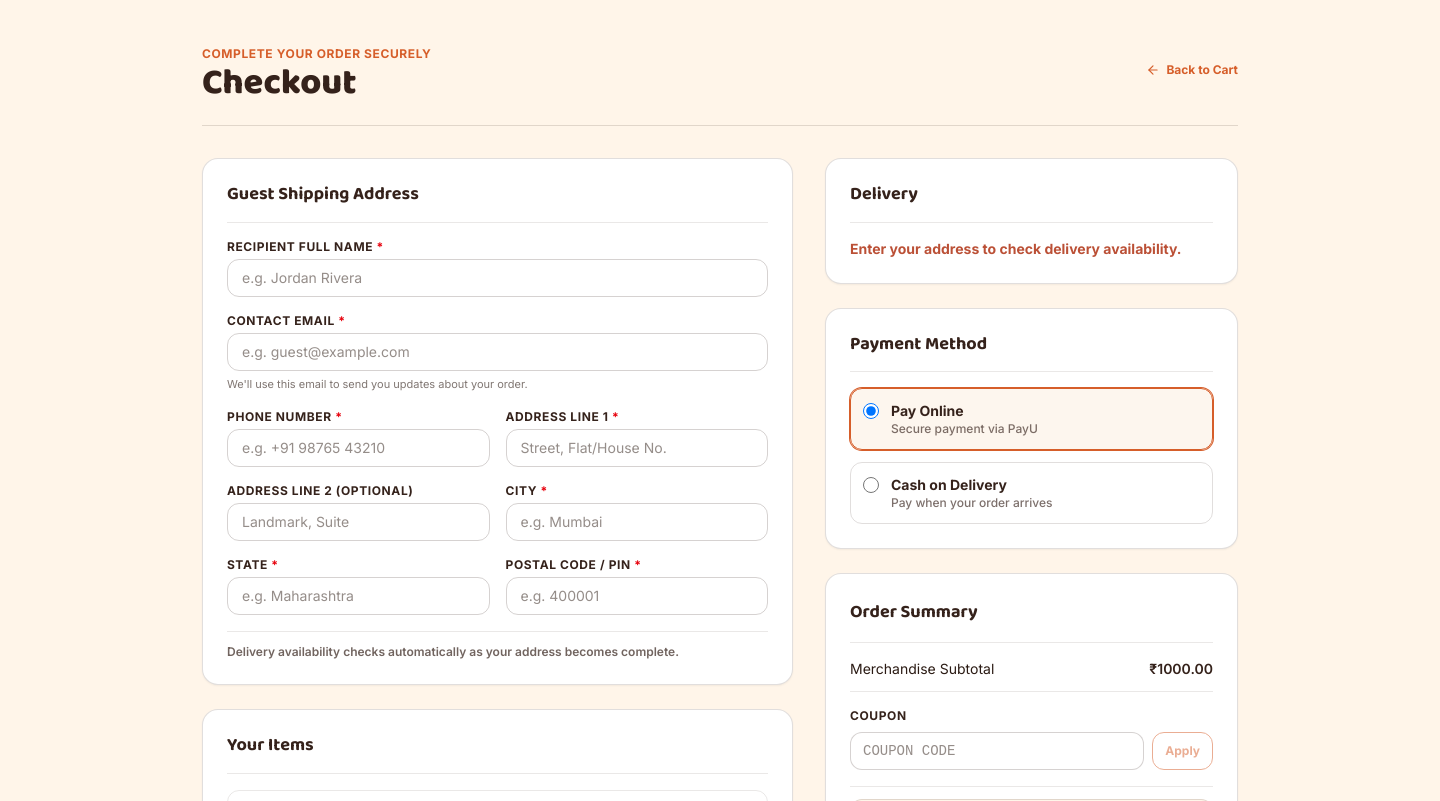
Test: Checkout product payment-method availability › COD-only cart: auto-switches from PayU to COD, re-previews once for COD, and never loops back
Expected: the heading "Guest Shipping Address" is shown, left=227, top=183, right=419, bottom=206
Step 1. Type "Guest User" into the field labelled "Recipient Full Name *" → (498, 278), box left=227, top=259, right=768, bottom=297
Step 2. Type "+91 98765 00000" into the field labelled "Phone Number *" → (358, 448), box left=227, top=429, right=490, bottom=467
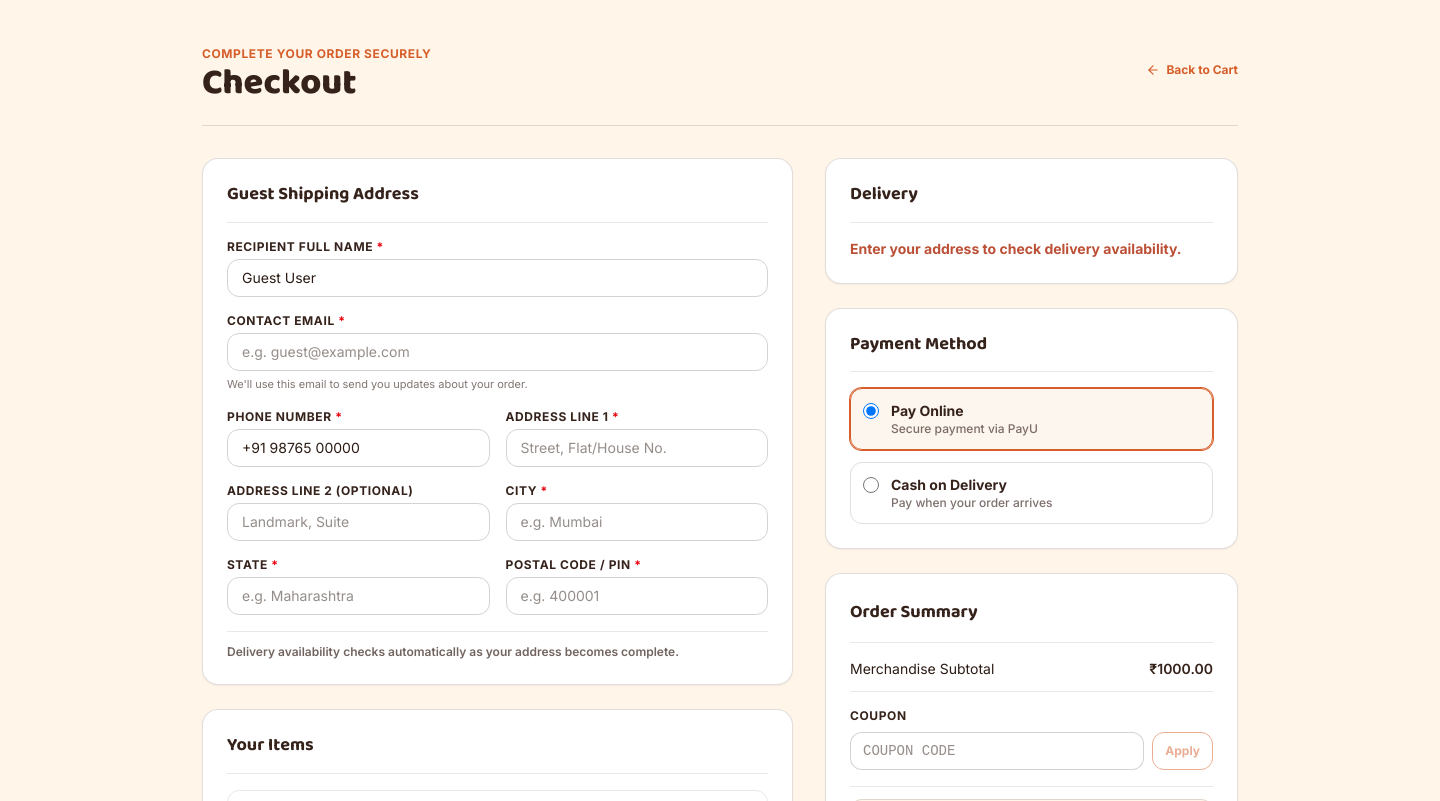
Step 3. Type "123 Street" into the field labelled "Address Line 1 *" → (637, 448), box left=506, top=429, right=768, bottom=467
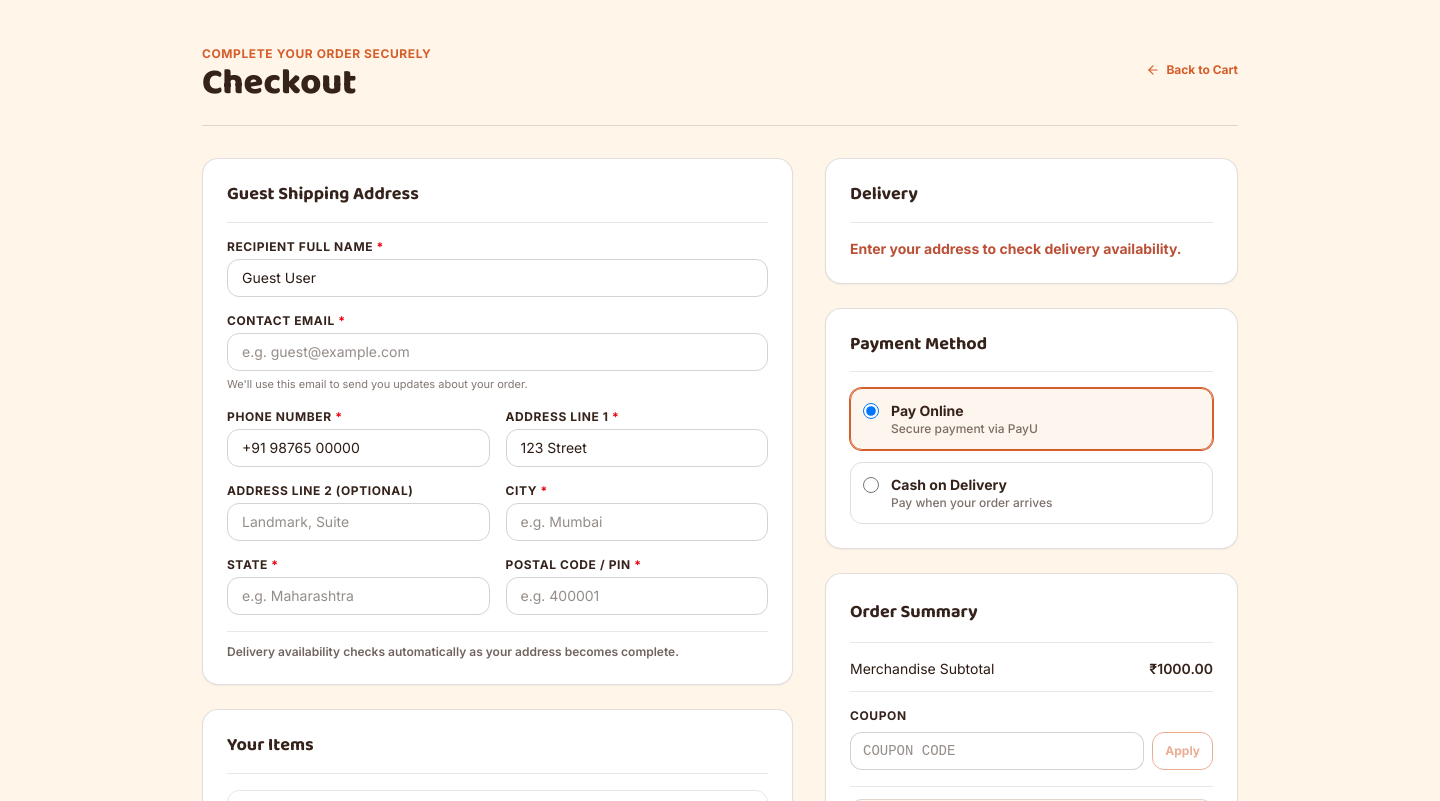
Step 4. Type "Mumbai" into the field labelled "City *" → (637, 522), box left=506, top=503, right=768, bottom=541
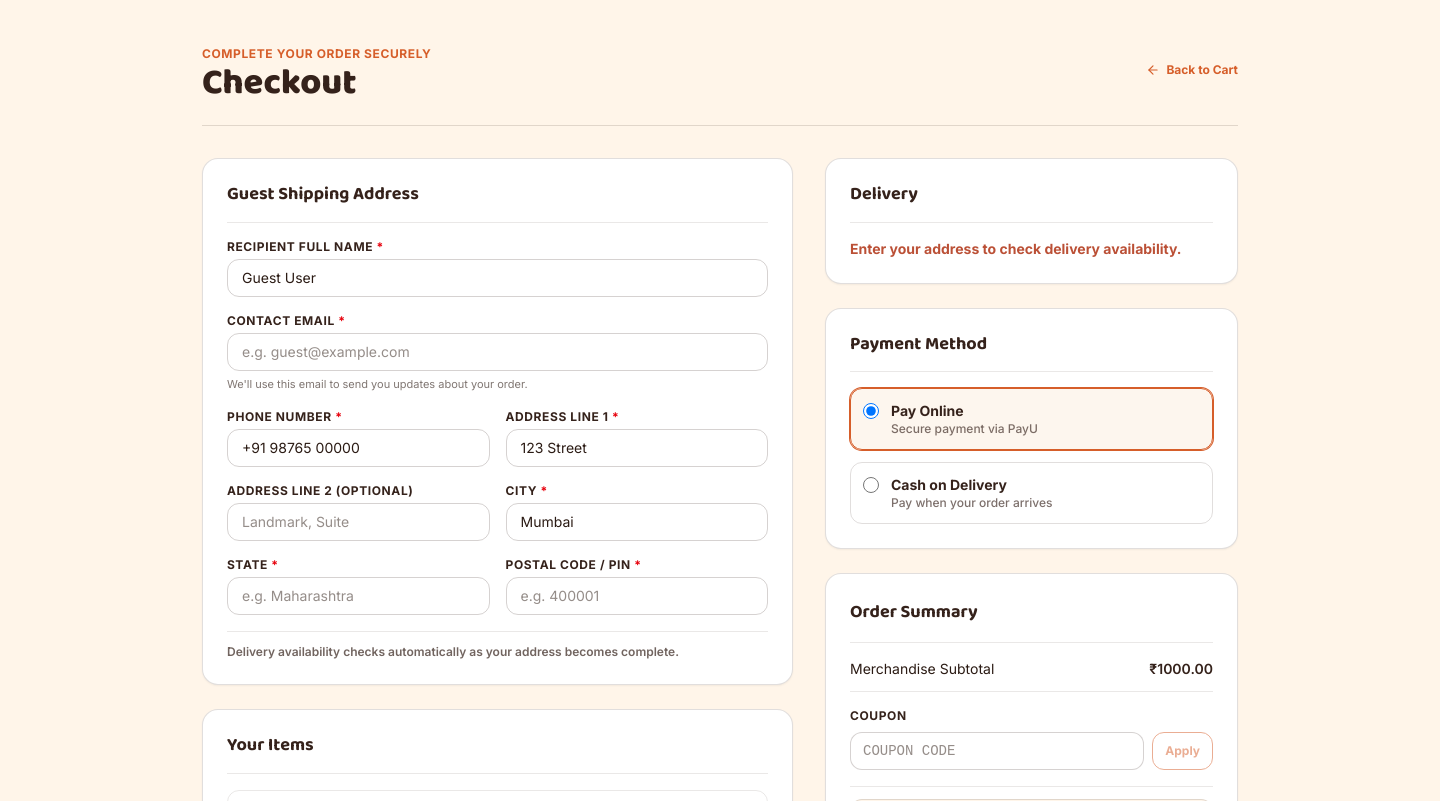
Step 5. Type "Maharashtra" into the field labelled "State *" → (358, 596), box left=227, top=577, right=490, bottom=615
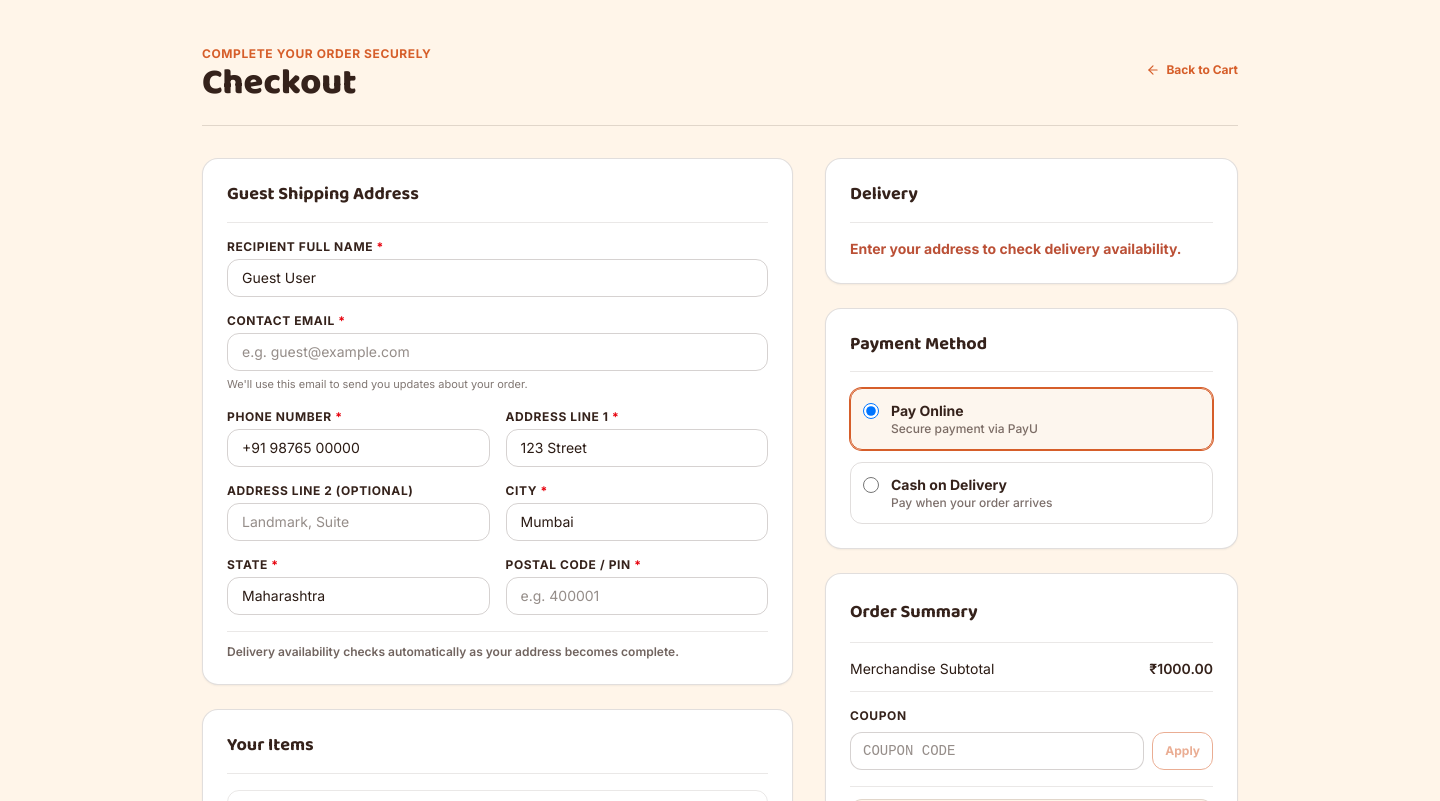
Step 6. Type "400001" into the field labelled "Postal Code / PIN *" → (637, 596), box left=506, top=577, right=768, bottom=615
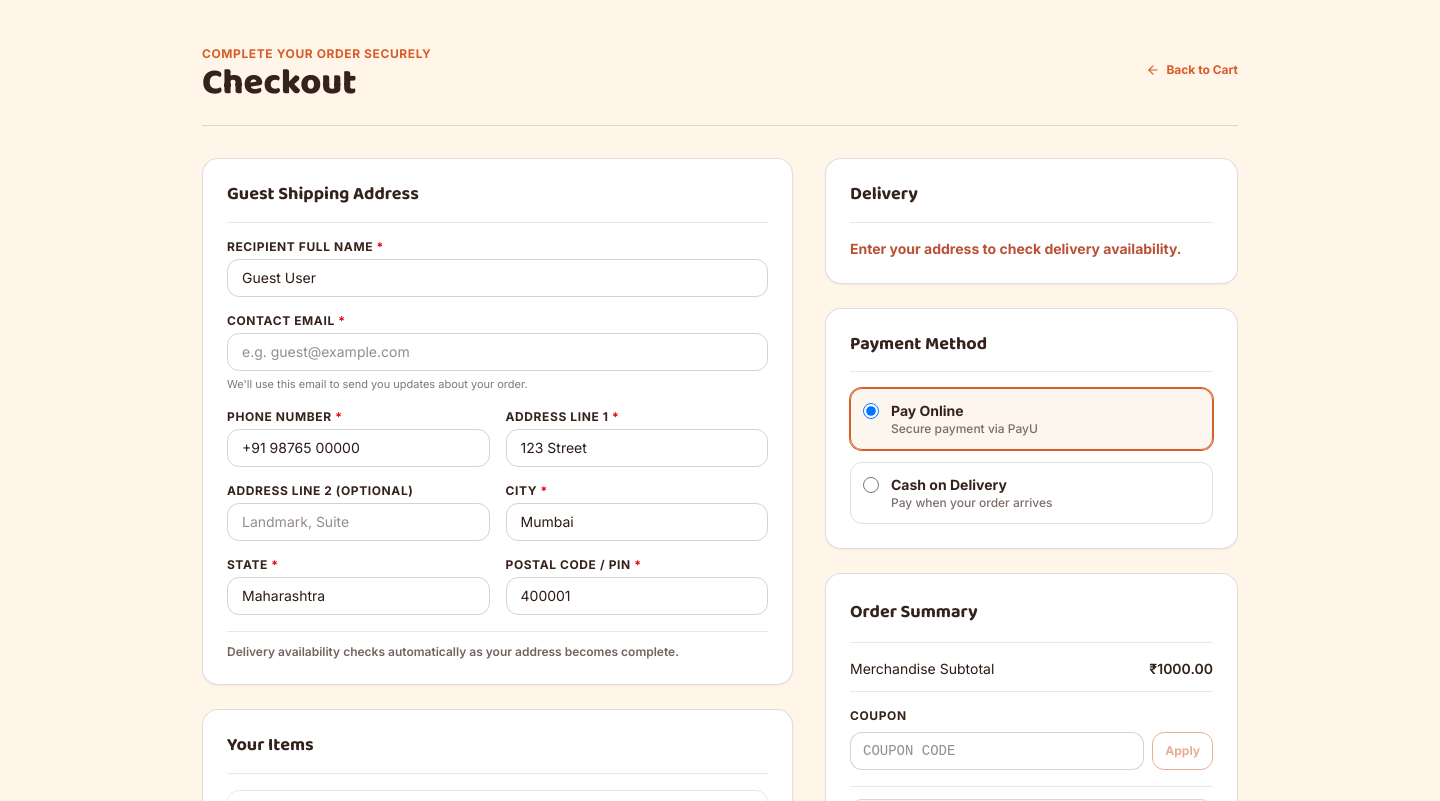
Step 7. Type "guest@example.com" into the field labelled "Contact Email *" → (498, 352), box left=227, top=333, right=768, bottom=371
(page scrolled)
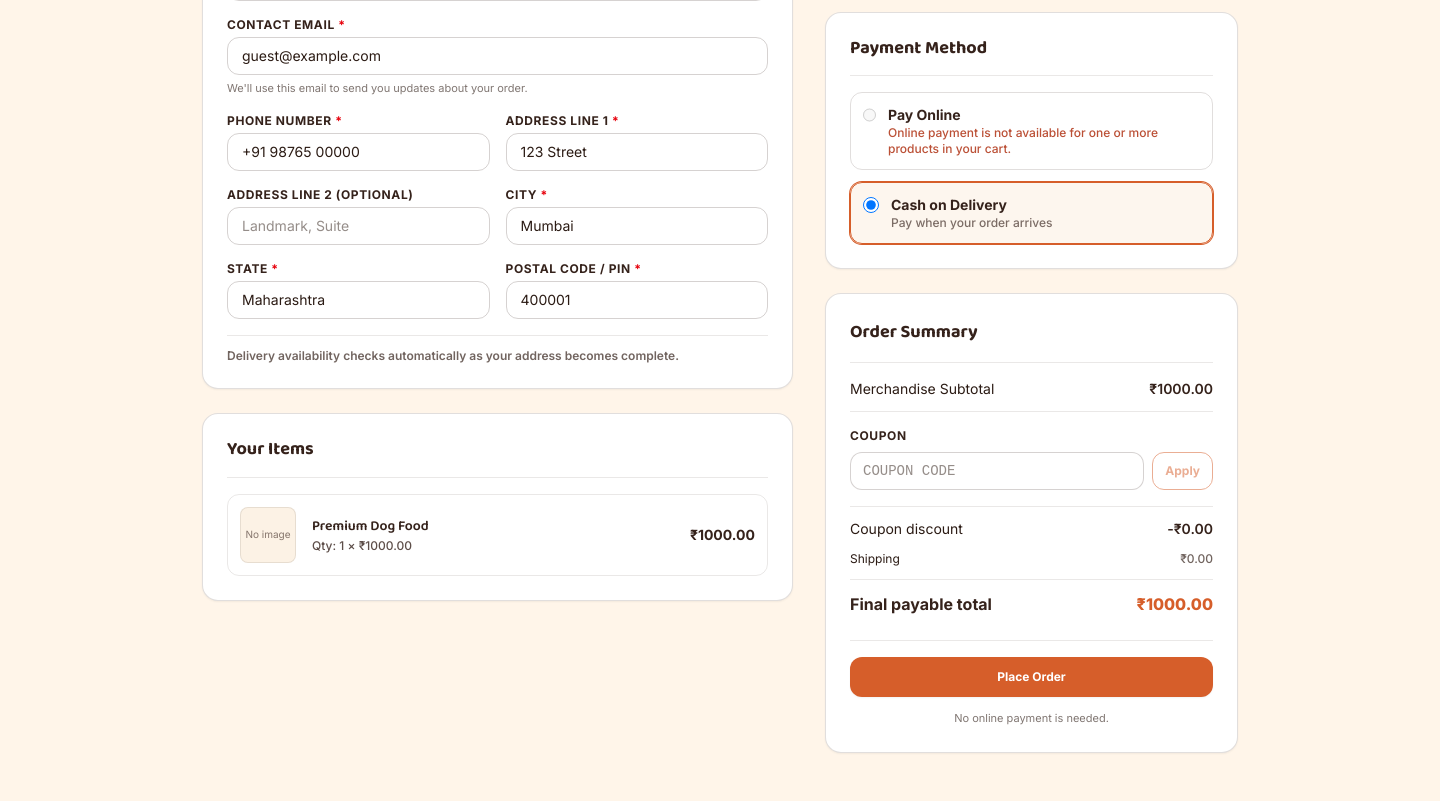
Result: the radio button labelled "Cash on Delivery Pay when your order arrives" is checked at left=863, top=197, right=879, bottom=213
Result: the radio button labelled "Pay Online" is disabled at left=863, top=107, right=876, bottom=123
Result: the text "Online payment is not available for one or more products in your cart." is shown at left=888, top=125, right=1200, bottom=157
